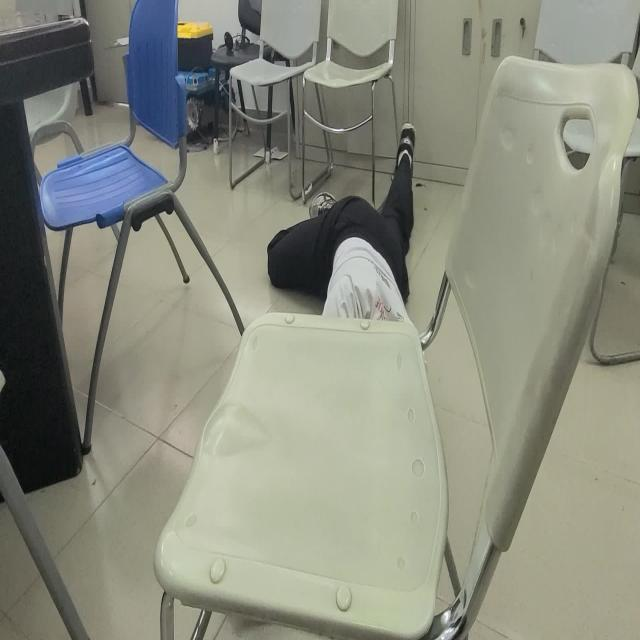Fall-Detected: (264, 120, 417, 320)
